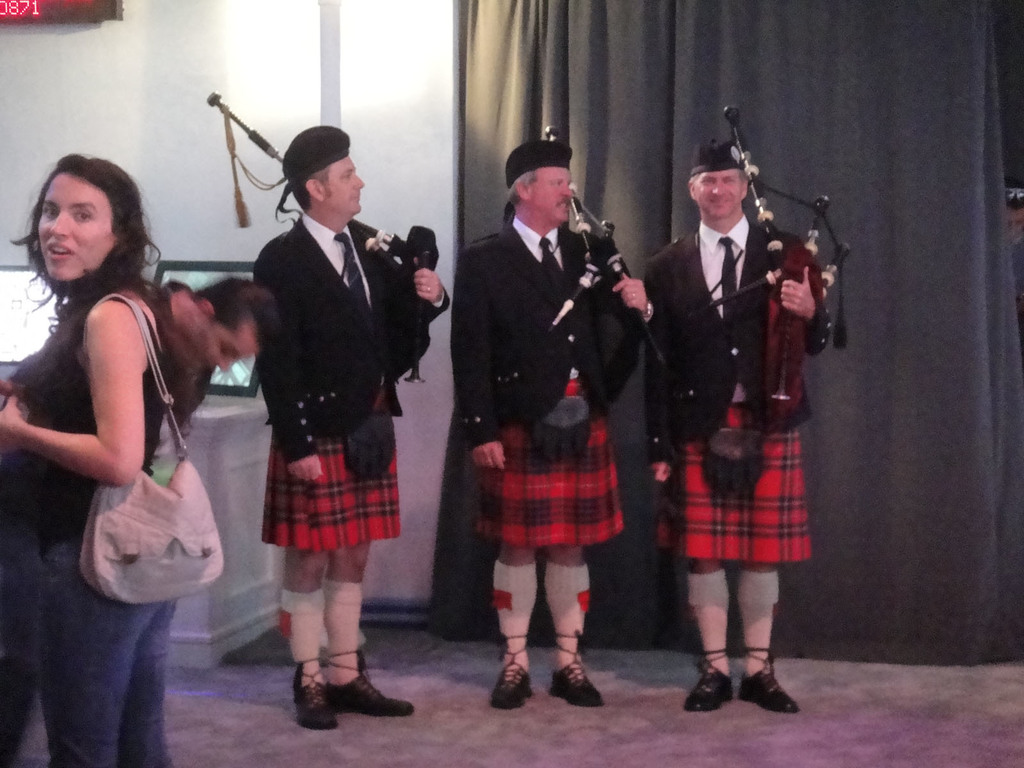Person: (0, 278, 282, 768), (253, 126, 450, 732), (450, 140, 655, 708), (644, 137, 832, 714), (1000, 172, 1024, 241)
